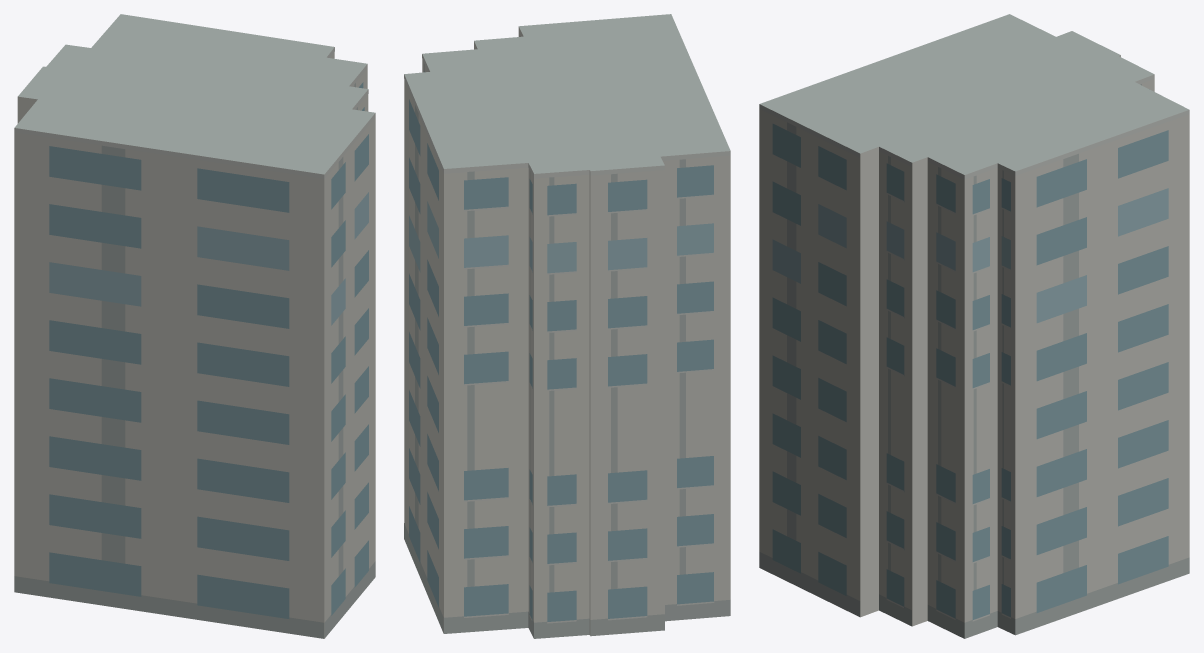
File: survey-upis-32640282.glb
The picture shows the model from 3 angles, left to right: view 1: azimuth 30°, elevation 25°; view 2: azimuth 150°, elevation 25°; view 3: azimuth 270°, elevation 25°; orthographic projection.
Parts seen in each view (by area): view 1: survey-upis-32640282.tmp; view 2: survey-upis-32640282.tmp; view 3: survey-upis-32640282.tmp.
Boxes of the visible parts, x1,y1,x2,y2 form: survey-upis-32640282.tmp: [14, 14, 375, 638]; survey-upis-32640282.tmp: [404, 14, 730, 638]; survey-upis-32640282.tmp: [759, 14, 1189, 638].
Bounding box in the file's own units: 18.27 × 24.5 × 20.61.
